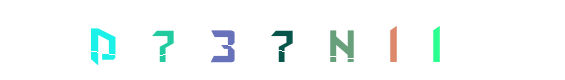3: (243, 0, 323, 80)
7: (185, 0, 265, 80), (243, 0, 323, 80)
D: (61, 0, 141, 80)
I: (290, 0, 370, 80), (353, 0, 433, 80)
N: (259, 0, 339, 80)
